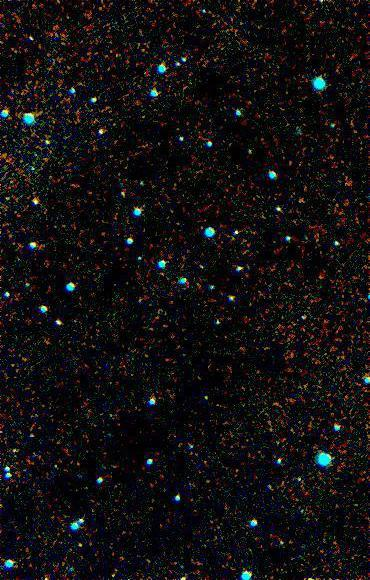star: (64, 531, 94, 561)
